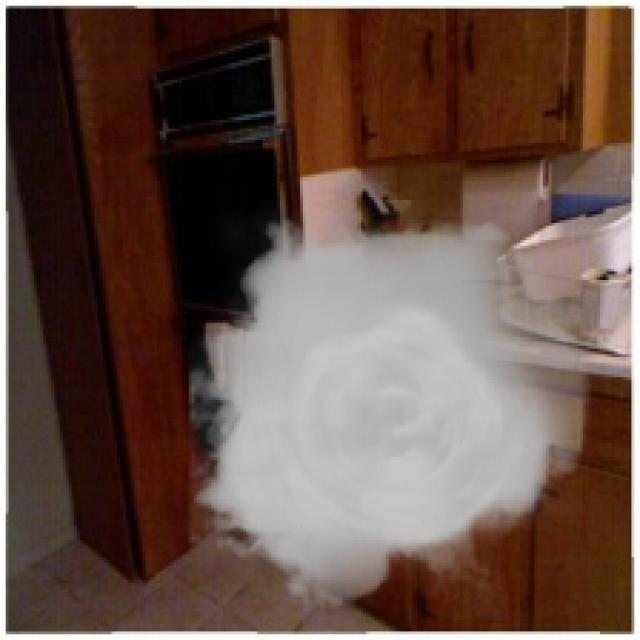smoke: (188, 200, 592, 620)
